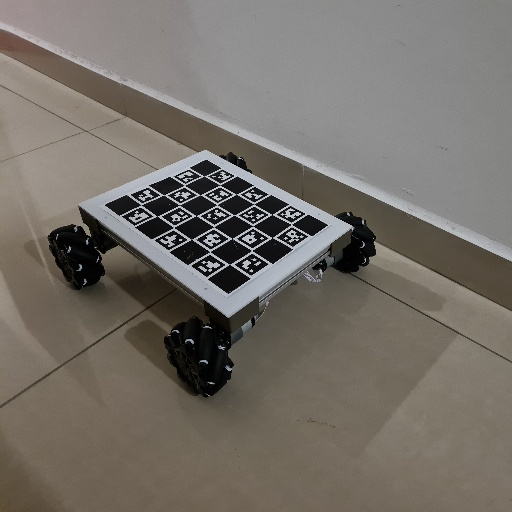Omniwheel: (46, 148, 378, 401)
